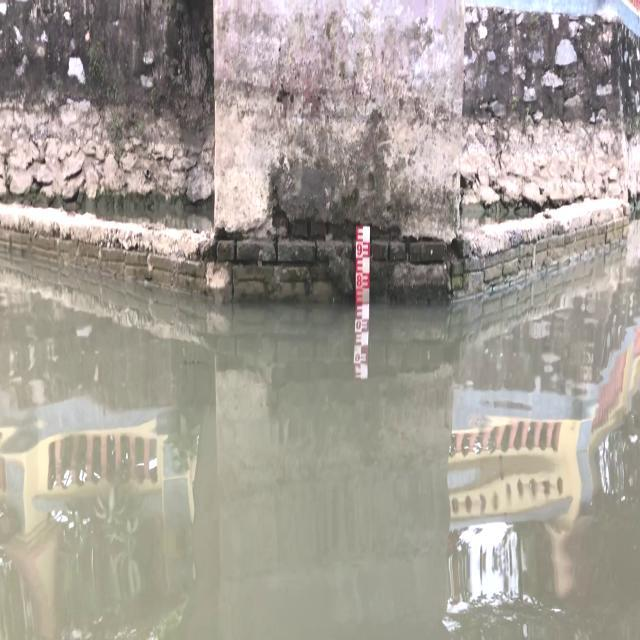ruler: (352, 220, 376, 308)
value: (355, 241, 364, 257), (356, 272, 362, 289)
